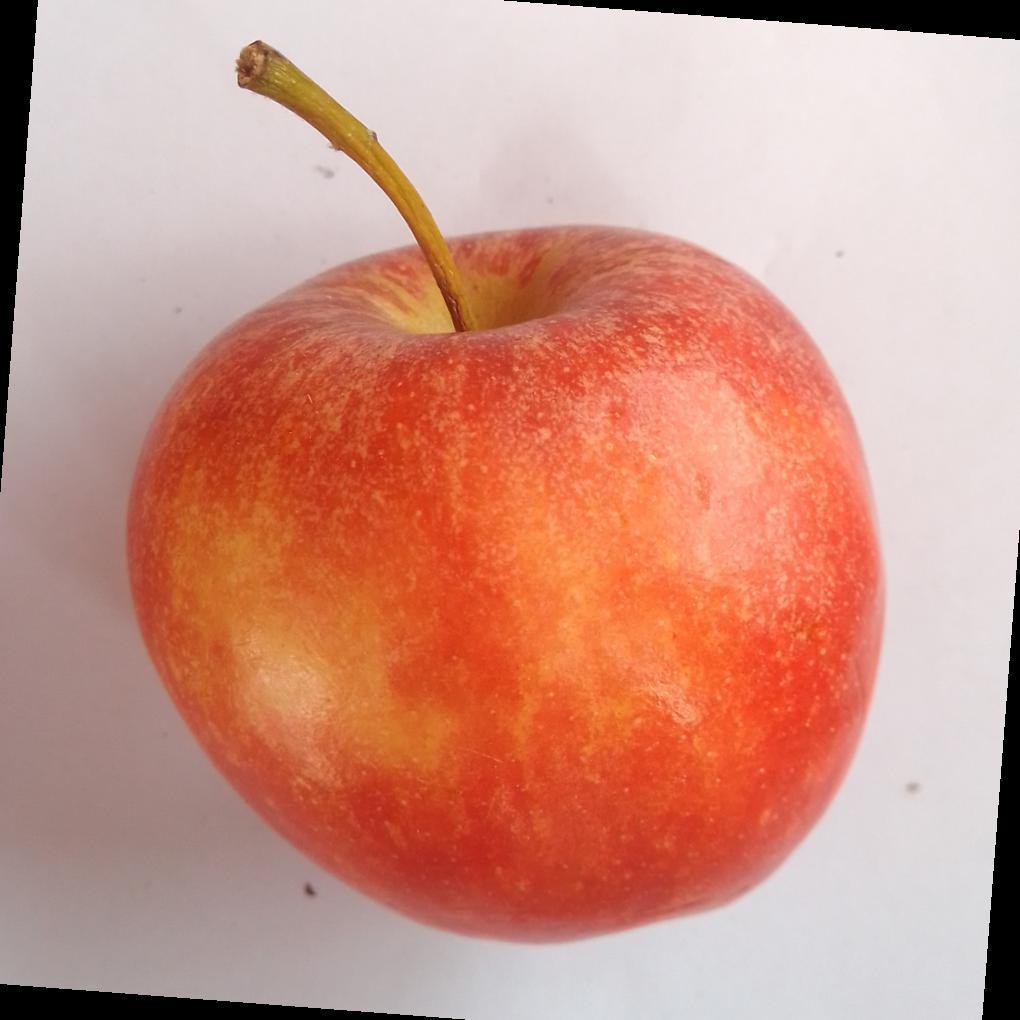FreshGuava: (122, 42, 888, 950)
